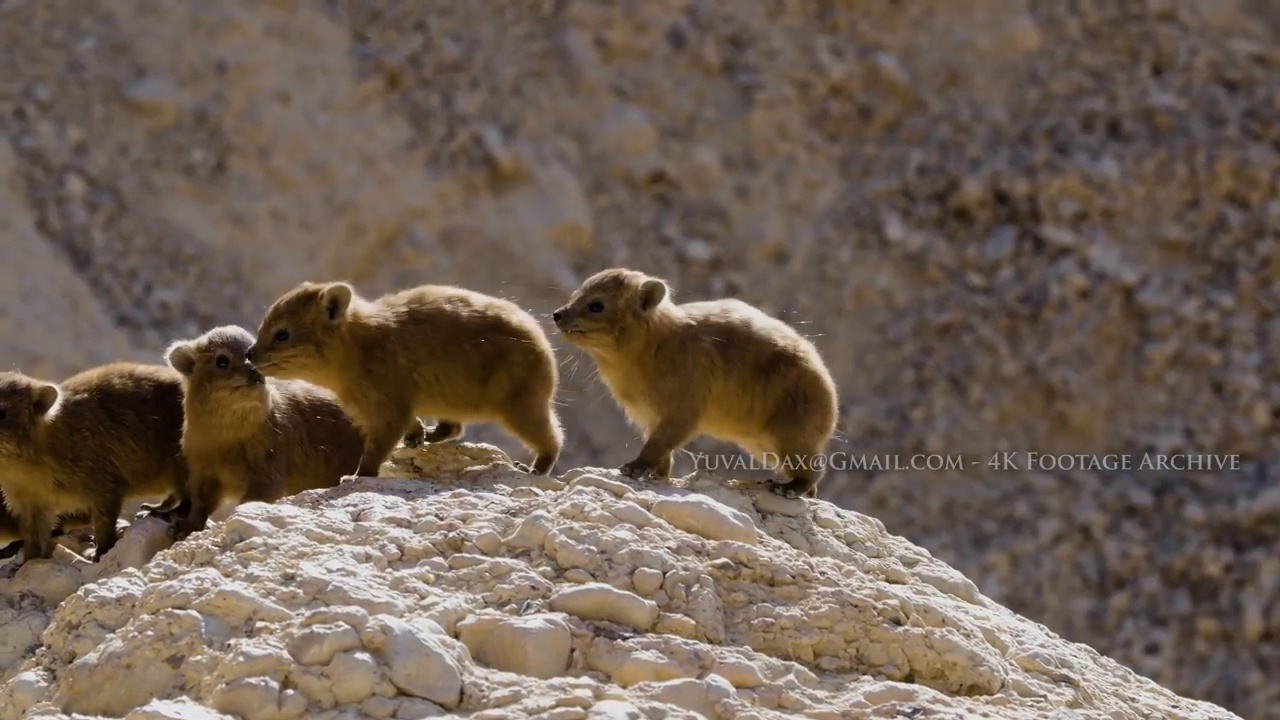Rock Hyrex: (548, 266, 840, 495), (244, 280, 561, 482), (166, 326, 367, 548), (1, 359, 190, 568)
